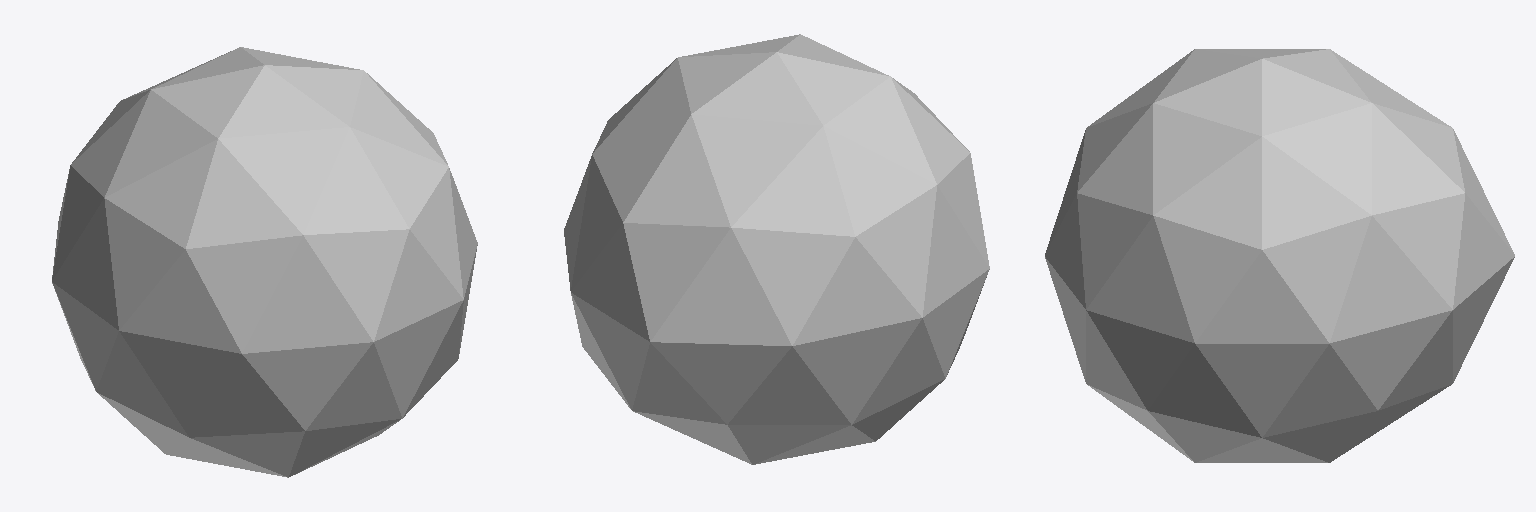
Rendered from Bubble_Bullet.obj.
The picture shows the model from 3 angles: view 1: azimuth 30°, elevation 25°; view 2: azimuth 150°, elevation 25°; view 3: azimuth 270°, elevation 25°; orthographic projection.
Parts seen in each view (by area): view 1: Icosphere.001; view 2: Icosphere.001; view 3: Icosphere.001.
Boxes of the visible parts, x1,y1,x2,y2 form: Icosphere.001: [52, 47, 477, 477]; Icosphere.001: [564, 34, 989, 464]; Icosphere.001: [1045, 49, 1514, 462].
Bounding box in the file's own units: 0.3096 × 0.3255 × 0.352.